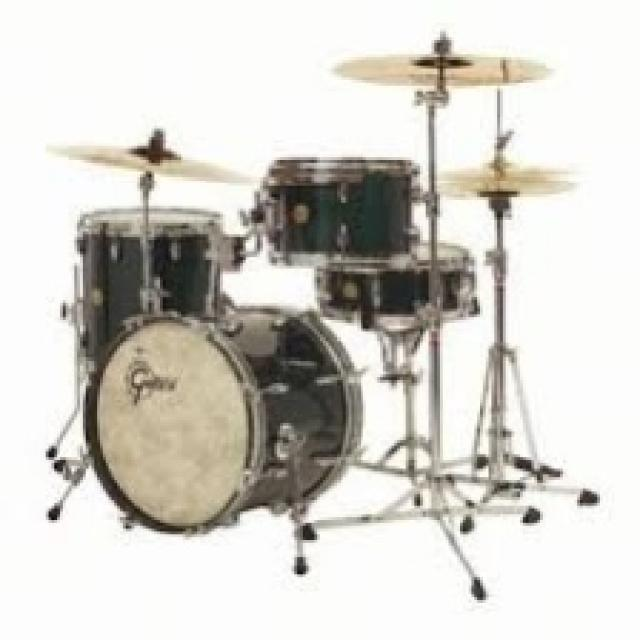drums: (42, 24, 586, 539)
